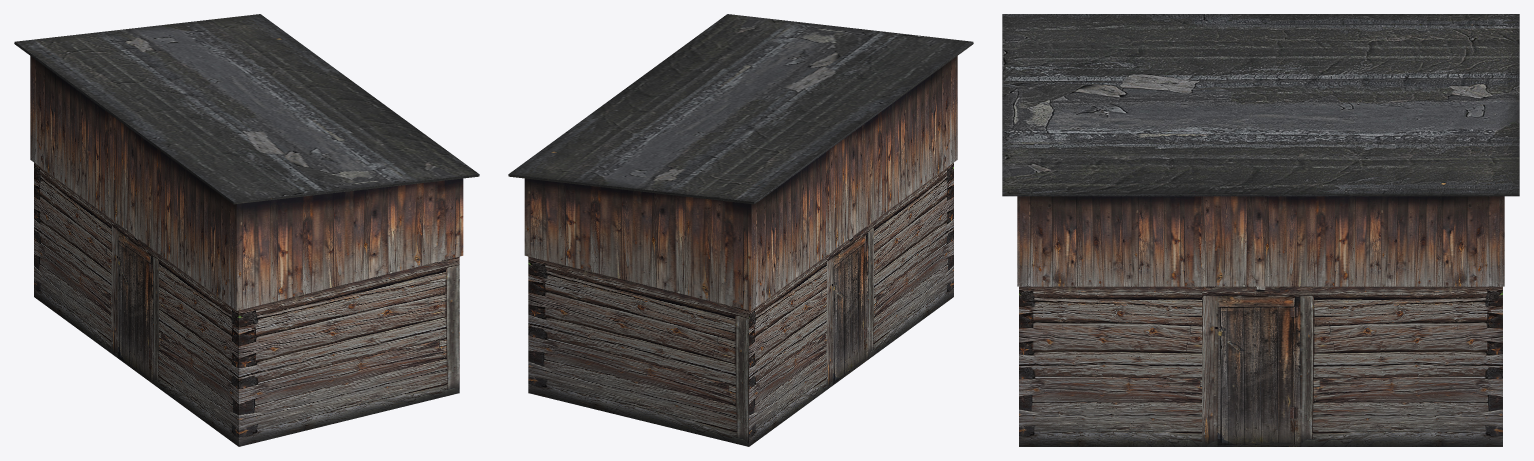
The model's file is sibir_saray.FBX.
3 renders of one model, left to right at view 1: azimuth 30°, elevation 25°; view 2: azimuth 150°, elevation 25°; view 3: azimuth 270°, elevation 25°, orthographic. The views are drawn at different scales.
Parts seen in each view (by area): view 1: sibir_saray; view 2: sibir_saray; view 3: sibir_saray.
Part boxes in pixels (x1,y1,x2,y2): sibir_saray: (14,14,479,446); sibir_saray: (508,14,973,446); sibir_saray: (1002,14,1519,446).
Bounding box in the file's own units: 363 × 559 × 356.
